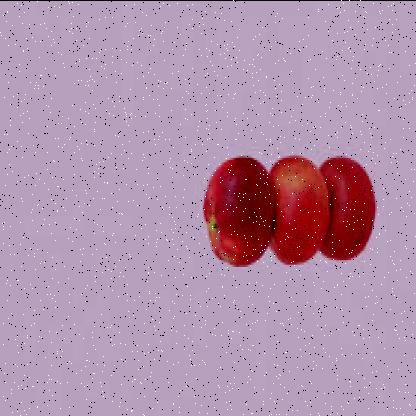apple: (268, 141, 332, 282), (203, 141, 271, 273), (317, 139, 382, 275)
